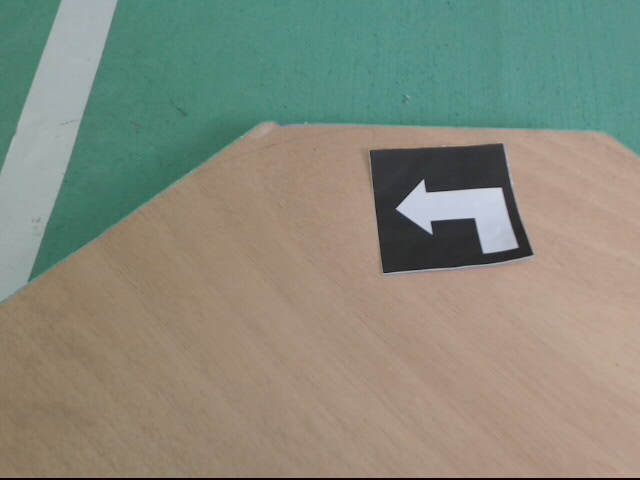left: (366, 142, 534, 276)
